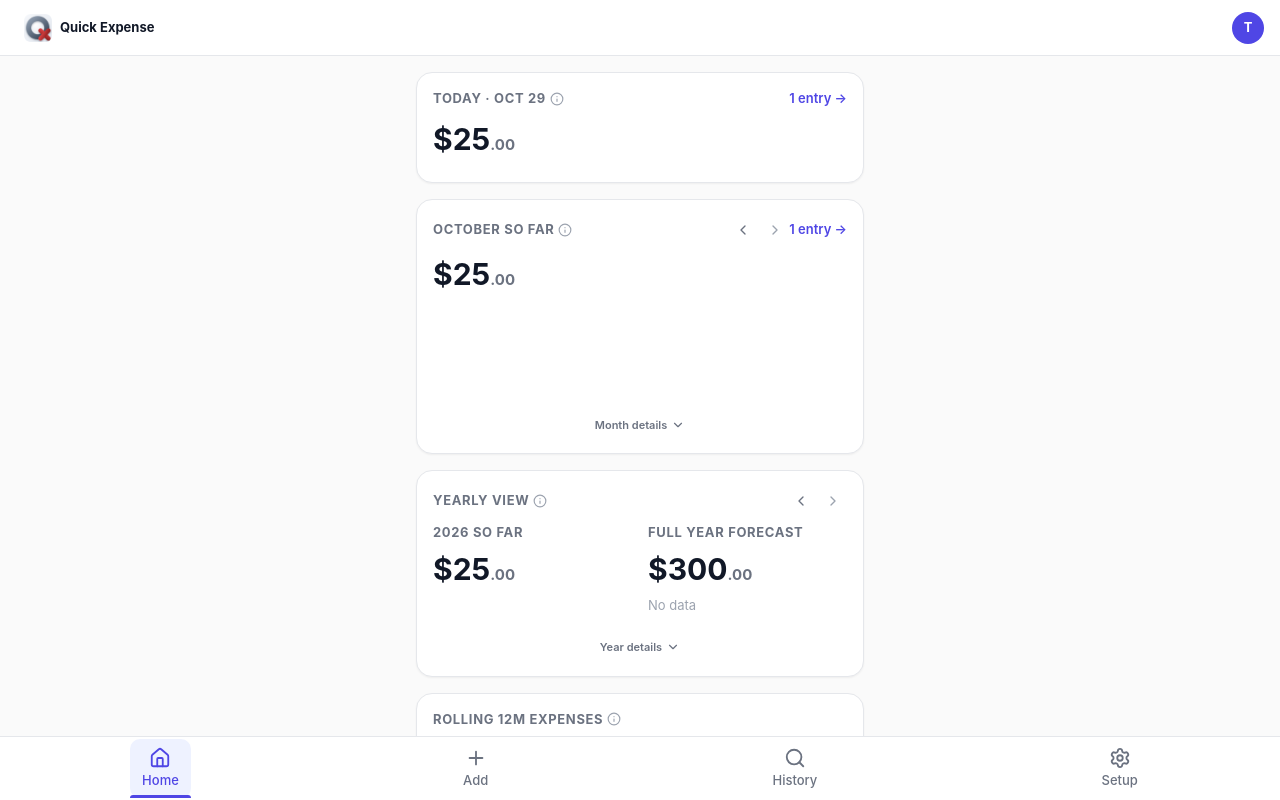
Scenario: HomePage — Month details expand › forces a dataset reload and shows a spinner when expanded while only a cached snapshot is rendered
Click the button "Month details" at (640, 425), box top-left (433, 412), bottom-right (847, 437)
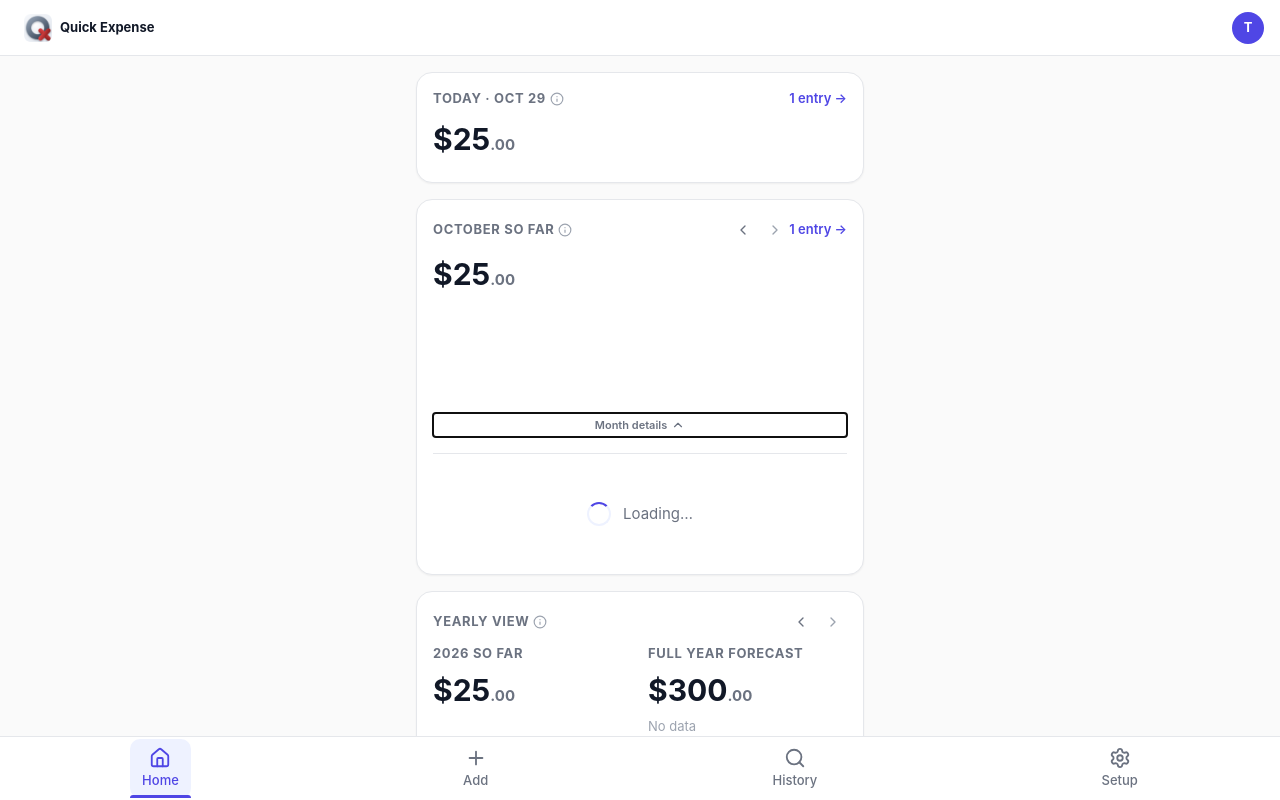
Now the text "Loading…" is shown, box top-left (623, 503), bottom-right (693, 525)
